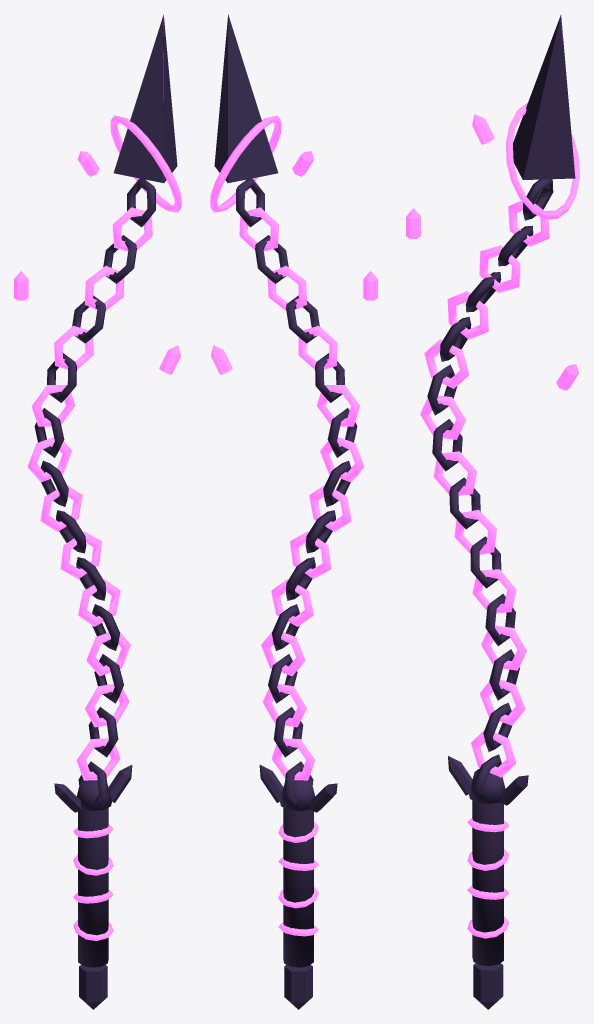
The model's file is 12_void_whip.fbx.
The picture shows the model from 3 angles, left to right: view 1: azimuth 30°, elevation 25°; view 2: azimuth 150°, elevation 25°; view 3: azimuth 330°, elevation 25°; orthographic projection. The views are drawn at different scales.
Parts seen in each view (by area): view 1: Weapon; view 2: Weapon; view 3: Weapon.
Part boxes in pixels (bbox=[...]): Weapon: bbox=[14, 14, 181, 1009]; Weapon: bbox=[210, 14, 377, 1009]; Weapon: bbox=[406, 14, 579, 1009].
Bounding box in the file's own units: 29.35 × 168 × 18.13.
2 materials, 1 textured.
